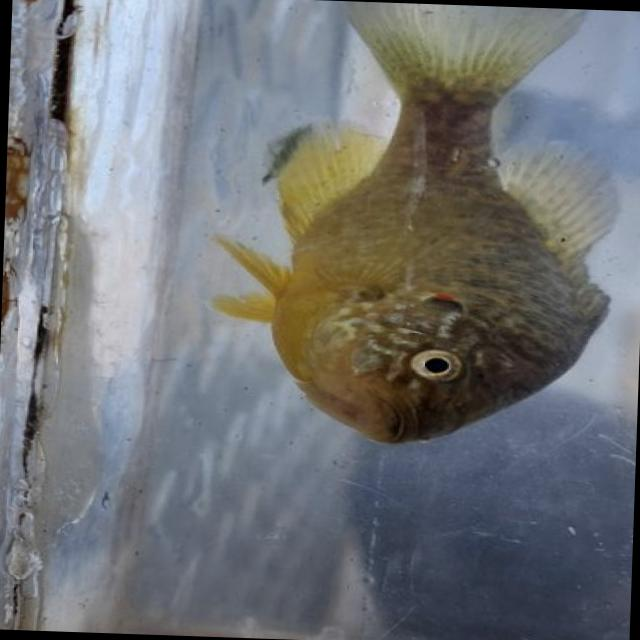Gunes Levregi: (176, 0, 628, 461)
